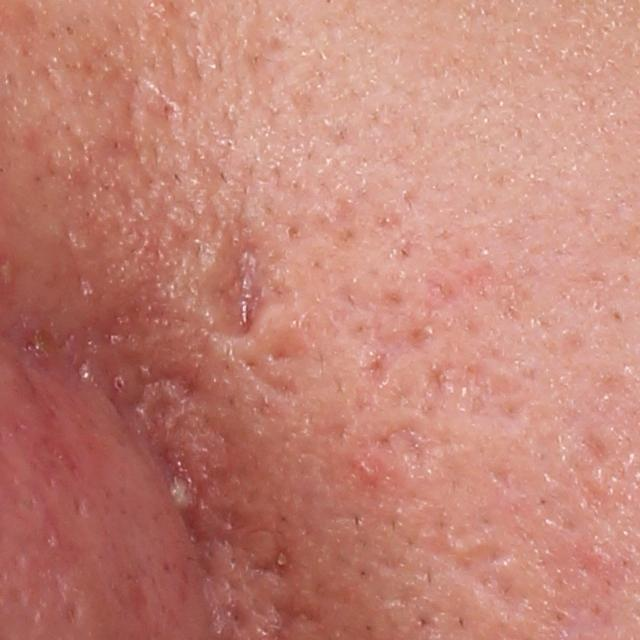atrophic_scar: (206, 224, 275, 341), (249, 524, 306, 589), (258, 339, 298, 365)
pustule: (163, 471, 201, 518)
